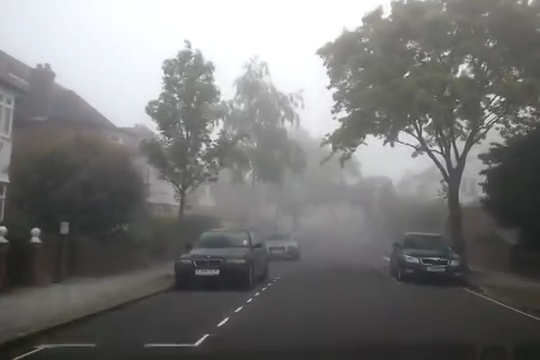car: (173, 229, 271, 291), (387, 230, 464, 286), (260, 229, 302, 260)
